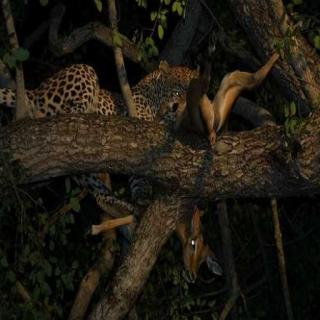Leopard: (0, 63, 196, 116)
